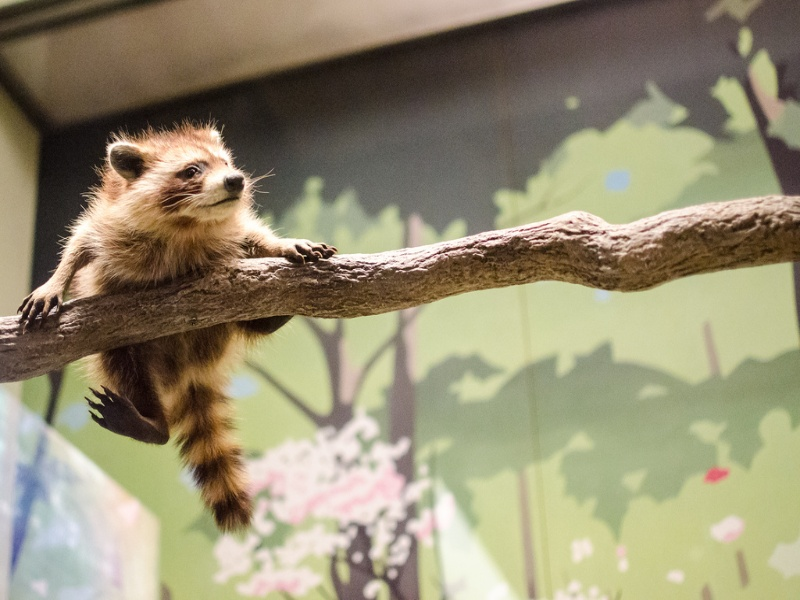raccoon: (17, 120, 338, 535)
